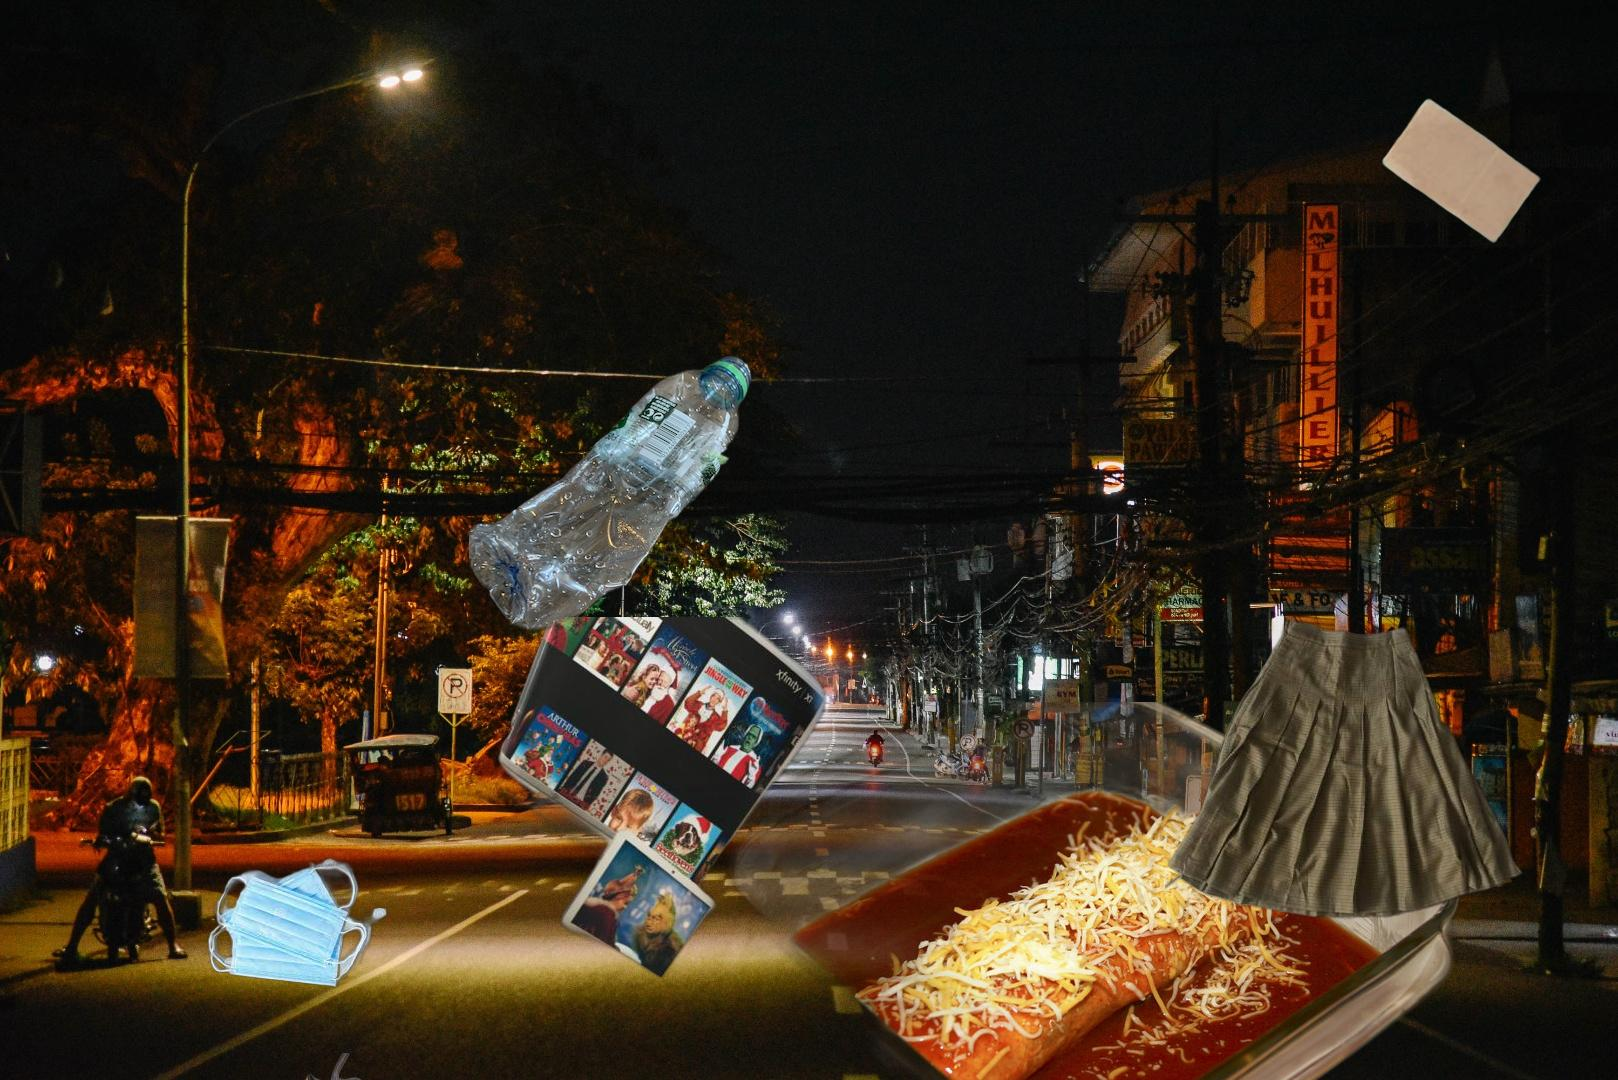biological: (714, 702, 1488, 1080)
clothes: (1165, 612, 1529, 922), (186, 1053, 539, 1080)
paper: (488, 617, 890, 1001)
paper-bag: (1380, 95, 1543, 246)
plastic-bottles: (469, 352, 755, 637), (146, 1039, 450, 1080)
trash: (204, 836, 390, 989)
